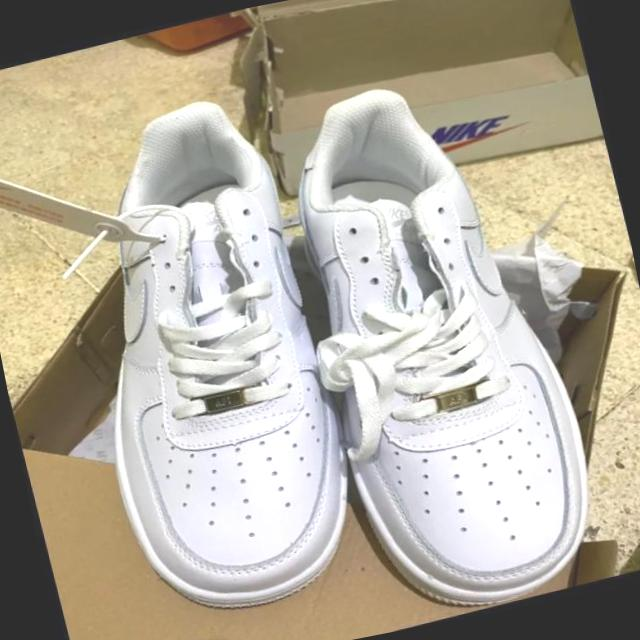nike_fake_airforce: (250, 49, 622, 636), (27, 81, 378, 638)
